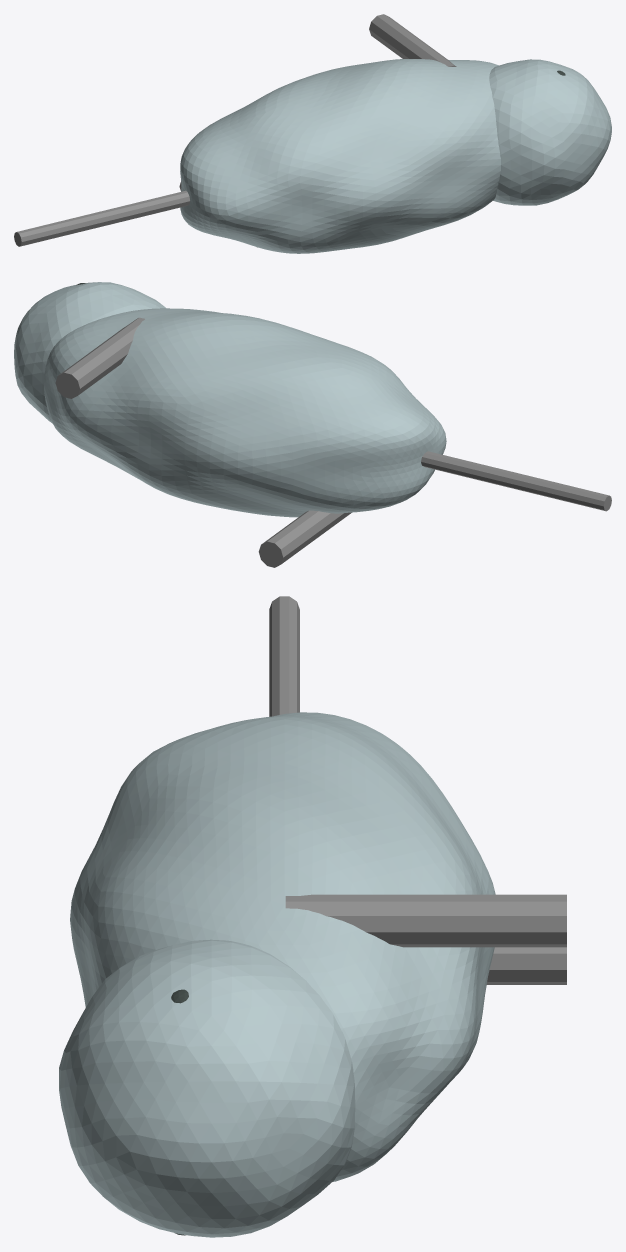
Rendered from Bana_Crystal_Feather_Bird.glb.
3 renders of one model, top to bottom at view 1: azimuth 30°, elevation 25°; view 2: azimuth 150°, elevation 25°; view 3: azimuth 270°, elevation 25°, orthographic. The views are drawn at different scales.
Visible parts, largest first — view 1: world; view 2: world; view 3: world.
Part boxes in pixels (<box>): world: <box>14,14,611,253</box>; world: <box>14,282,611,567</box>; world: <box>59,596,566,1237</box>.
Bounding box in the file's own units: 3.45 × 0.92 × 1.34.
